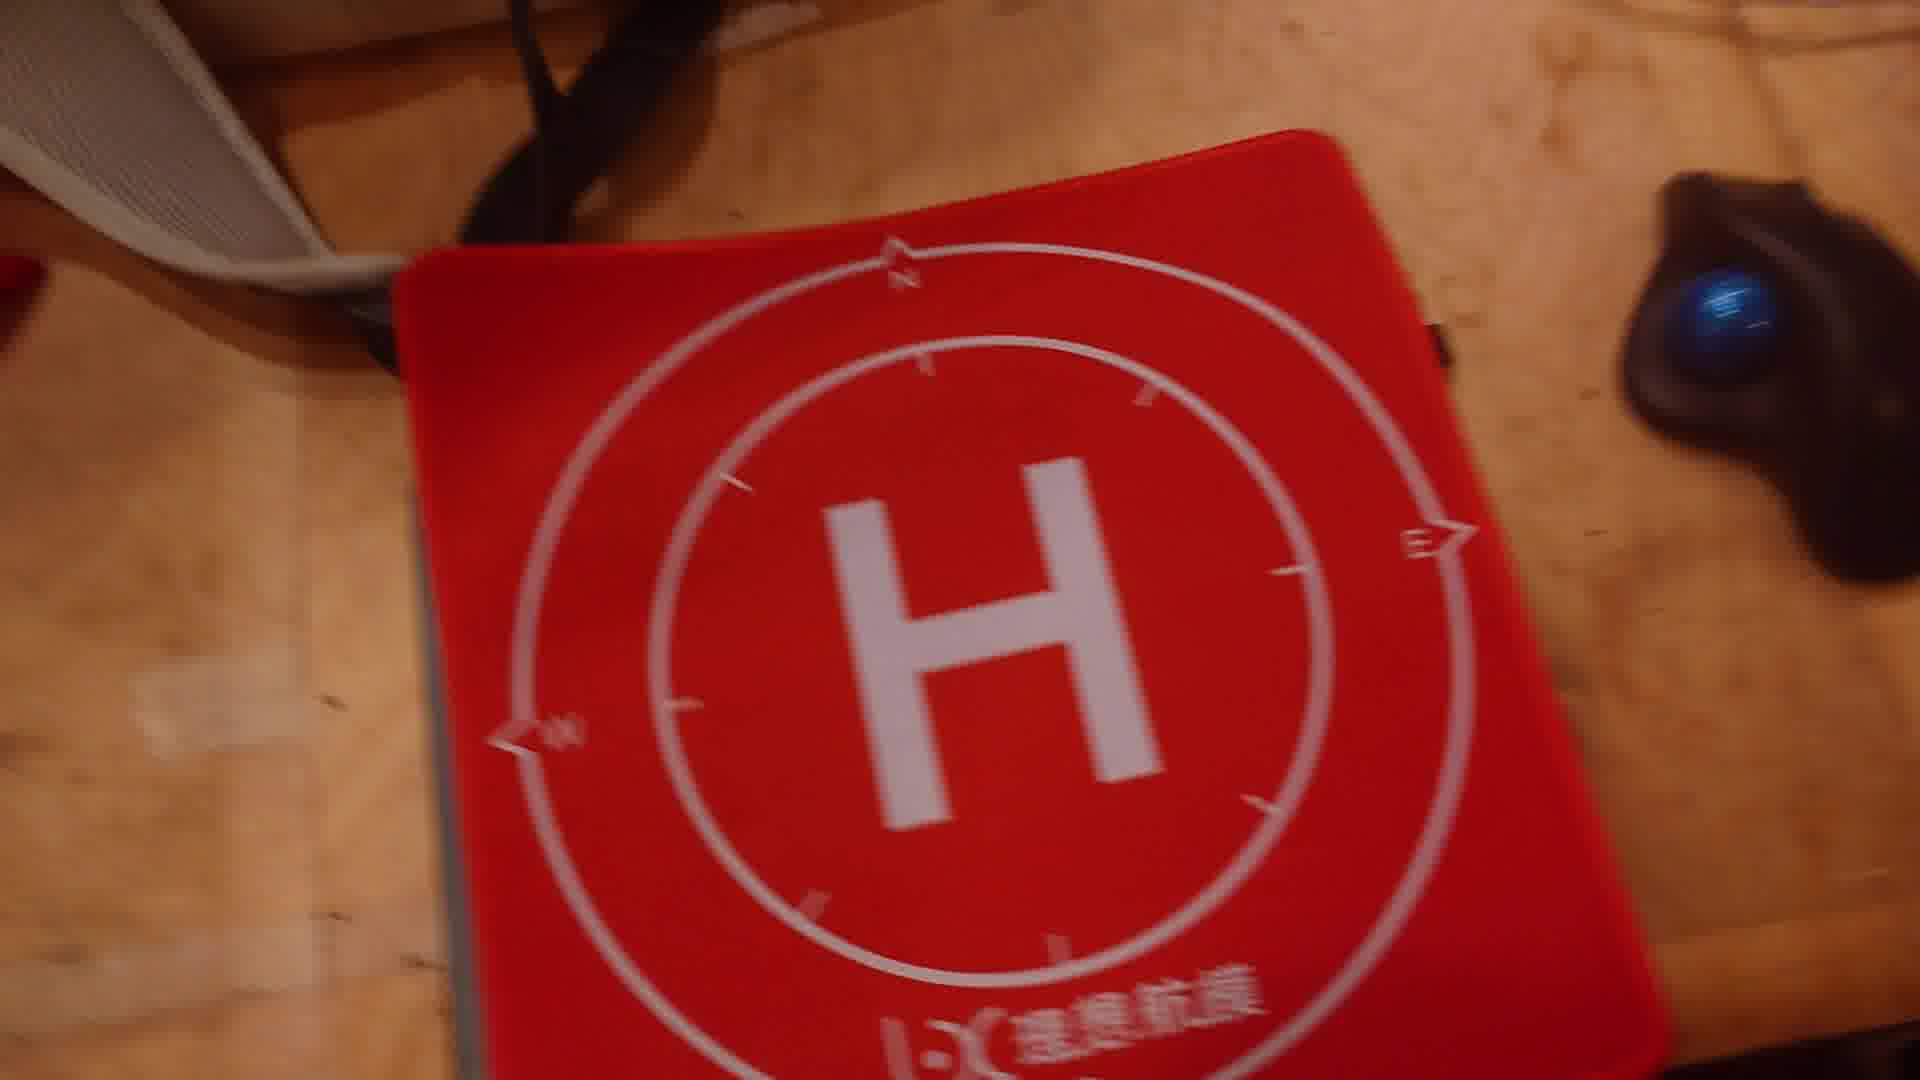H: (819, 454, 1168, 831)
